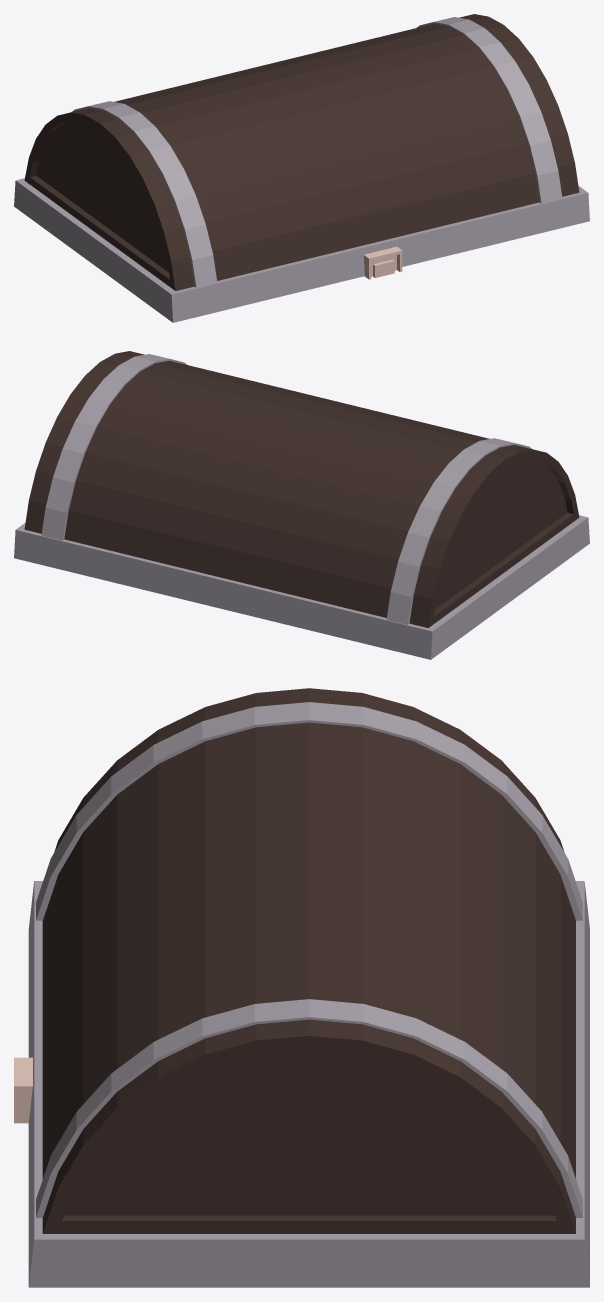
File: TreasureChestTop.gltf
3 renders of one model, top to bottom at view 1: azimuth 30°, elevation 25°; view 2: azimuth 150°, elevation 25°; view 3: azimuth 270°, elevation 25°, orthographic. The views are drawn at different scales.
Parts seen in each view (by area): view 1: TreasureChaseTop; view 2: TreasureChaseTop; view 3: TreasureChaseTop.
Boxes of the visible parts, x1,y1,x2,y2 form: TreasureChaseTop: [14, 14, 589, 322]; TreasureChaseTop: [14, 351, 589, 659]; TreasureChaseTop: [14, 688, 589, 1287].
Bounding box in the file's own units: 0.5296 × 0.1727 × 0.3593.
